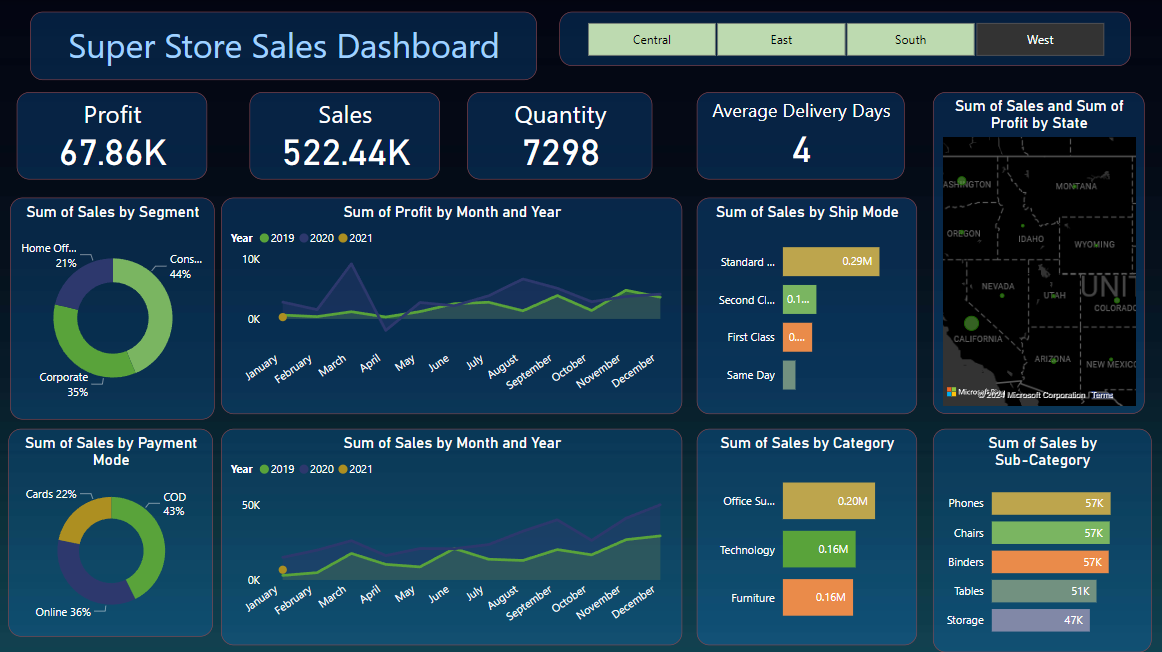

What the dashboard file says about the page in this screenshot:
{"tool":"powerbi","page":{"name":"Page 1","canvas":[1280,720],"ordinal":0},"visuals":[{"type":"clusteredBarChart","fields":{"Category":["SuperStore_Sales_Dataset (2).Category"],"Y":["Sum(SuperStore_Sales_Dataset (2).Sales)"]},"box":[767.3,471.2,242.3,238.5],"z":0},{"type":"clusteredBarChart","fields":{"Y":["Sum(SuperStore_Sales_Dataset (2).Sales)"],"Category":["SuperStore_Sales_Dataset (2).Sub-Category"]},"box":[1026.9,471.2,240.4,246.2],"z":1000},{"type":"clusteredBarChart","fields":{"Y":["Sum(SuperStore_Sales_Dataset (2).Sales)"],"Category":["SuperStore_Sales_Dataset (2).Ship Mode"]},"box":[767.3,217.3,242.3,238.5],"z":2000},{"type":"areaChart","fields":{"Y":["Sum(SuperStore_Sales_Dataset (2).Sales)"],"Category":["SuperStore_Sales_Dataset (2).Ship Date.Variation.Date Hierarchy.Month"],"Series":["SuperStore_Sales_Dataset (2).Ship Date.Variation.Date Hierarchy.Year"]},"box":[244.2,471.2,507.7,238.5],"z":3000},{"type":"areaChart","fields":{"Category":["SuperStore_Sales_Dataset (2).Ship Date.Variation.Date Hierarchy.Month"],"Series":["SuperStore_Sales_Dataset (2).Ship Date.Variation.Date Hierarchy.Year"],"Y":["Sum(SuperStore_Sales_Dataset (2).Profit)"]},"box":[244.2,217.3,507.7,238.5],"z":4000},{"type":"map","fields":{"Size":["Sum(SuperStore_Sales_Dataset (2).Sales)"],"Category":["SuperStore_Sales_Dataset (2).State"]},"box":[1026.9,101.9,232.7,353.8],"z":5000},{"type":"donutChart","fields":{"Category":["SuperStore_Sales_Dataset (2).Segment"],"Y":["Sum(SuperStore_Sales_Dataset (2).Sales)"]},"box":[11.5,217.3,225,244.2],"z":5001},{"type":"donutChart","fields":{"Category":["SuperStore_Sales_Dataset (2).Payment Mode"],"Y":["Sum(SuperStore_Sales_Dataset (2).Sales)"]},"box":[9.6,471.2,225,228.8],"z":5002},{"type":"slicer","fields":{"Values":["SuperStore_Sales_Dataset (2).Region"]},"box":[615.4,13.5,628.8,59.6],"z":5003},{"type":"textbox","box":[32.7,13.5,557.7,75],"z":5004},{"type":"card","title":"Profit","fields":{"Values":["Sum(SuperStore_Sales_Dataset (2).Profit)"]},"box":[19.2,101.9,209.6,96.2],"z":5005},{"type":"card","title":"Sales","fields":{"Values":["Sum(SuperStore_Sales_Dataset (2).Sales)"]},"box":[275,101.9,209.6,96.2],"z":5006},{"type":"card","title":"Quantity","fields":{"Values":["Sum(SuperStore_Sales_Dataset (2).Quantity)"]},"box":[513.5,101.9,203.8,96.2],"z":5007},{"type":"card","title":"Average Delivery Days","fields":{"Values":["Avg(SuperStore_Sales_Dataset (2).AvgDelivery)"]},"box":[767.3,101.9,228.8,96.2],"z":5008}]}

Visuals, with their boxes in screenshot pixels (x1, y1, x2, y2), scaled from the page's 1280x720 canvas onto the 1162x652 screenshot:
clusteredBarChart - SuperStore_Sales_Dataset (2).Category x Sum(SuperStore_Sales_Dataset (2).Sales): <bbox>697, 427, 917, 643</bbox>
clusteredBarChart - Sum(SuperStore_Sales_Dataset (2).Sales) x SuperStore_Sales_Dataset (2).Sub-Category: <bbox>932, 427, 1150, 650</bbox>
clusteredBarChart - Sum(SuperStore_Sales_Dataset (2).Sales) x SuperStore_Sales_Dataset (2).Ship Mode: <bbox>697, 197, 917, 413</bbox>
areaChart - Sum(SuperStore_Sales_Dataset (2).Sales) x SuperStore_Sales_Dataset (2).Ship Date.Variation.Date Hierarchy.Month: <bbox>222, 427, 683, 643</bbox>
areaChart - SuperStore_Sales_Dataset (2).Ship Date.Variation.Date Hierarchy.Month x SuperStore_Sales_Dataset (2).Ship Date.Variation.Date Hierarchy.Year: <bbox>222, 197, 683, 413</bbox>
map - Sum(SuperStore_Sales_Dataset (2).Sales) x SuperStore_Sales_Dataset (2).State: <bbox>932, 92, 1143, 413</bbox>
donutChart - SuperStore_Sales_Dataset (2).Segment x Sum(SuperStore_Sales_Dataset (2).Sales): <bbox>10, 197, 215, 418</bbox>
donutChart - SuperStore_Sales_Dataset (2).Payment Mode x Sum(SuperStore_Sales_Dataset (2).Sales): <bbox>9, 427, 213, 634</bbox>
slicer - SuperStore_Sales_Dataset (2).Region: <bbox>559, 12, 1130, 66</bbox>
textbox: <bbox>30, 12, 536, 80</bbox>
"Profit" card: <bbox>17, 92, 208, 179</bbox>
"Sales" card: <bbox>250, 92, 440, 179</bbox>
"Quantity" card: <bbox>466, 92, 651, 179</bbox>
"Average Delivery Days" card: <bbox>697, 92, 904, 179</bbox>
